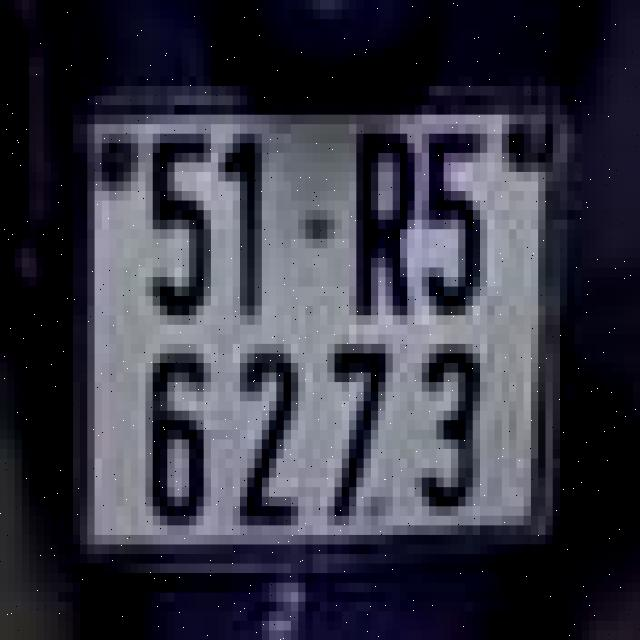1: (218, 120, 276, 330)
2: (236, 334, 302, 535)
3: (415, 339, 487, 521)
5: (138, 120, 218, 330), (422, 110, 494, 329)
6: (142, 339, 214, 540)
7: (327, 330, 393, 530)
R: (342, 129, 422, 330)
